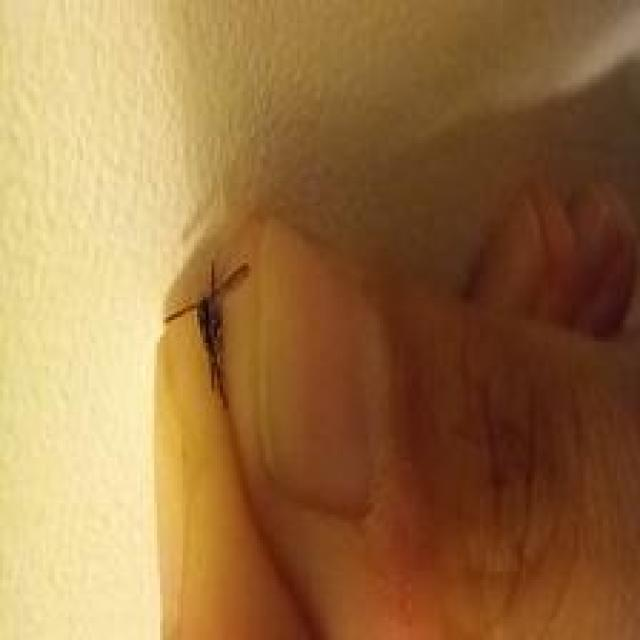Aedes albopictus: (163, 259, 251, 410)
